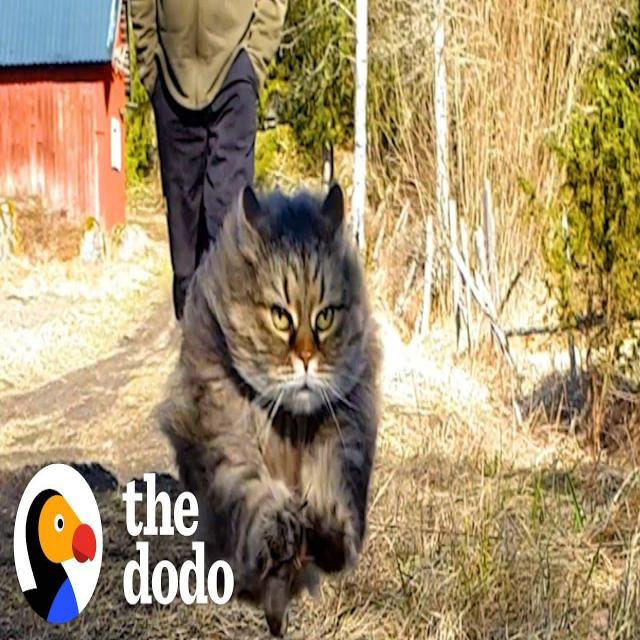Cat: (230, 176, 362, 417)
